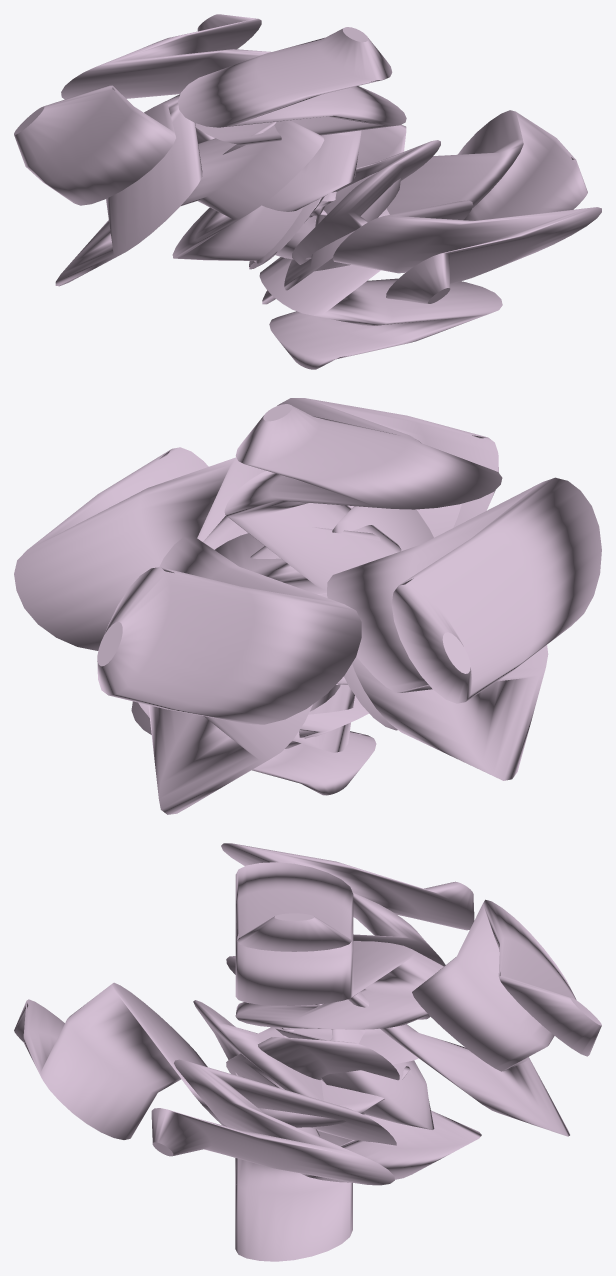
Rendered from pinkprotein.fbx.
The picture shows the model from 3 angles, top to bottom: view 1: azimuth 30°, elevation 25°; view 2: azimuth 150°, elevation 25°; view 3: azimuth 270°, elevation 25°; orthographic projection. The views are drawn at different scales.
Parts seen in each view (by area): view 1: pasted__pasted__pasted__pCylinder1, pasted__pCylinder1, pasted__pasted__pCylinder1; view 2: pasted__pasted__pasted__pCylinder1, pasted__pasted__pCylinder1, pasted__pCylinder1; view 3: pasted__pasted__pCylinder1, pasted__pCylinder1, pasted__pasted__pasted__pCylinder1.
Part boxes in pixels (x1,y1,x2,y2): pasted__pasted__pasted__pCylinder1: [14, 85, 587, 304]; pasted__pCylinder1: [178, 27, 502, 369]; pasted__pasted__pCylinder1: [61, 14, 601, 303]; pasted__pasted__pasted__pCylinder1: [14, 447, 601, 780]; pasted__pasted__pCylinder1: [97, 398, 498, 814]; pasted__pCylinder1: [131, 404, 502, 795]; pasted__pasted__pCylinder1: [14, 899, 601, 1139]; pasted__pCylinder1: [235, 862, 481, 1261]; pasted__pasted__pasted__pCylinder1: [151, 843, 474, 1185].
Bounding box in the file's own units: 16.41 × 10.69 × 18.16.
